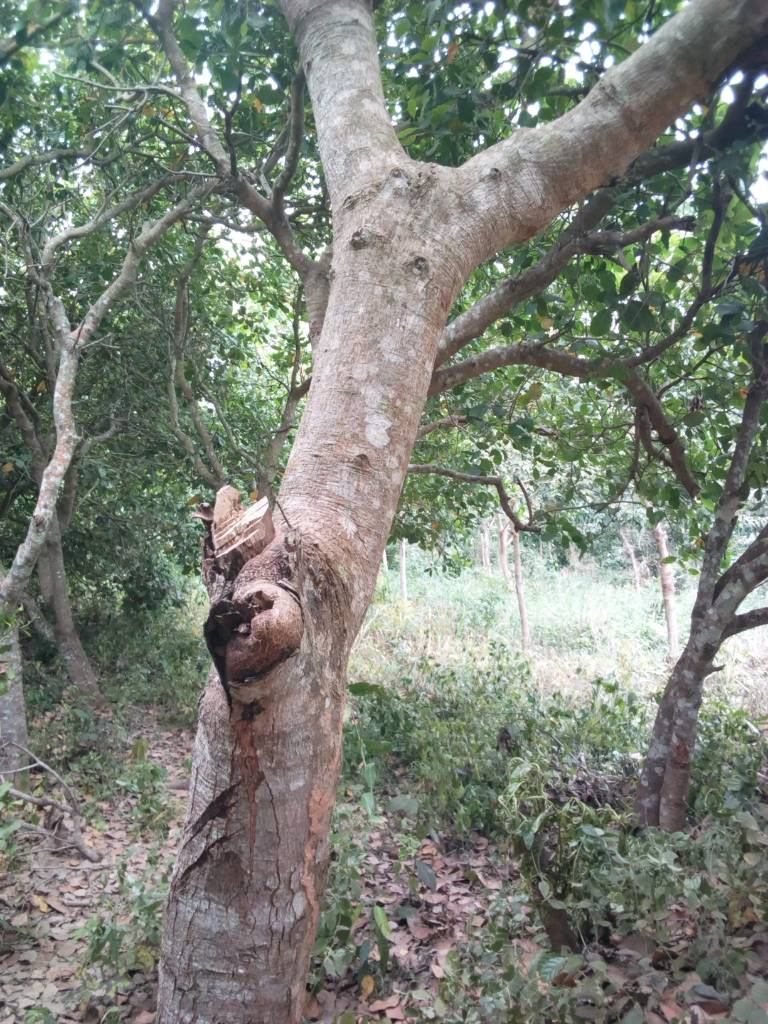Termites: (299, 644, 340, 1011)
